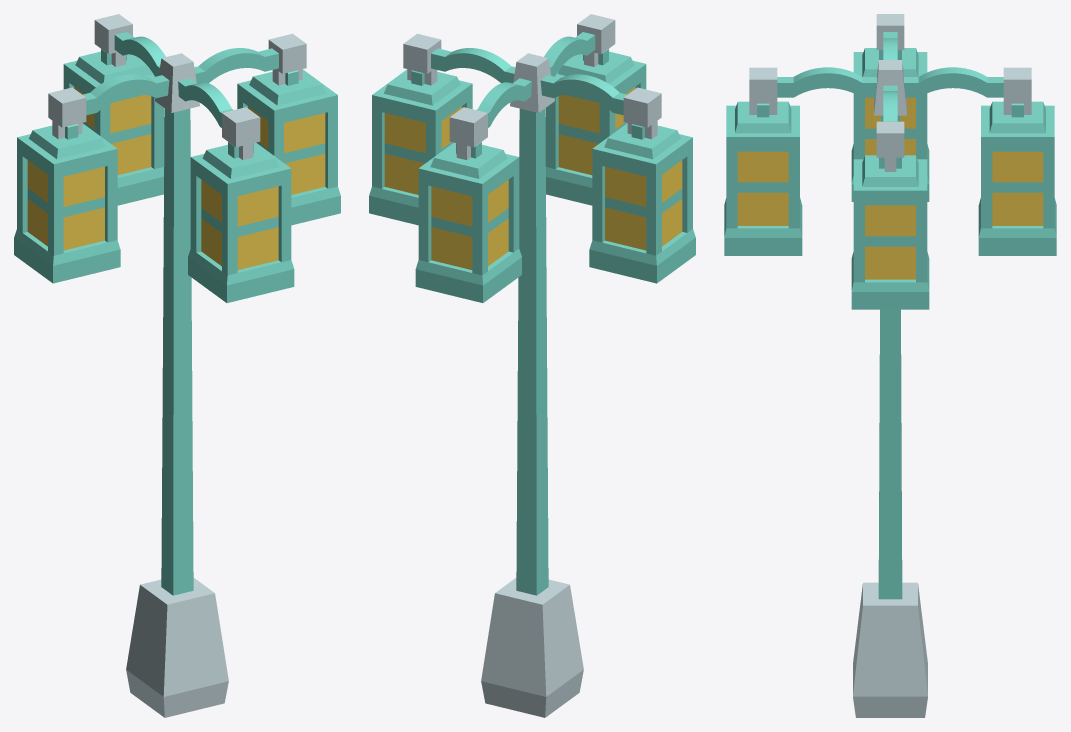
File: lightpostAll.glb
3 views of the same model, side by side, from view 1: azimuth 30°, elevation 25°; view 2: azimuth 150°, elevation 25°; view 3: azimuth 270°, elevation 25° (orthographic).
Visible parts, largest first — view 1: lightpostAll; view 2: lightpostAll; view 3: lightpostAll.
Part boxes in pixels (left/top/right/bottom): lightpostAll: left=14, top=14, right=340, bottom=717; lightpostAll: left=369, top=14, right=695, bottom=717; lightpostAll: left=724, top=14, right=1056, bottom=717.
Size of the model in its own units: 0.6225 by 1.32 by 0.6225.
